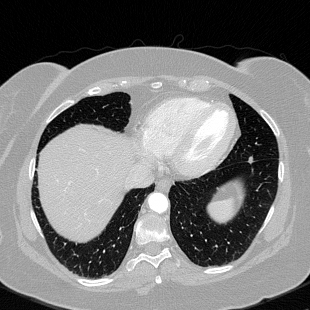nodule: (248, 157, 254, 163)
